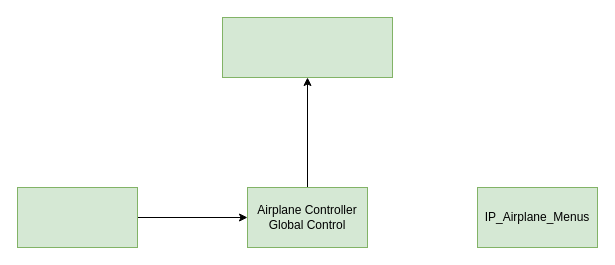
Image size: 615x265. Some labels were removed from this diagram. Each missing label, with the centre of its shape:
"Airplane Input" goes at (x=77, y=217).
"IP_BaseRigidbody_Controller" goes at (x=307, y=47).
